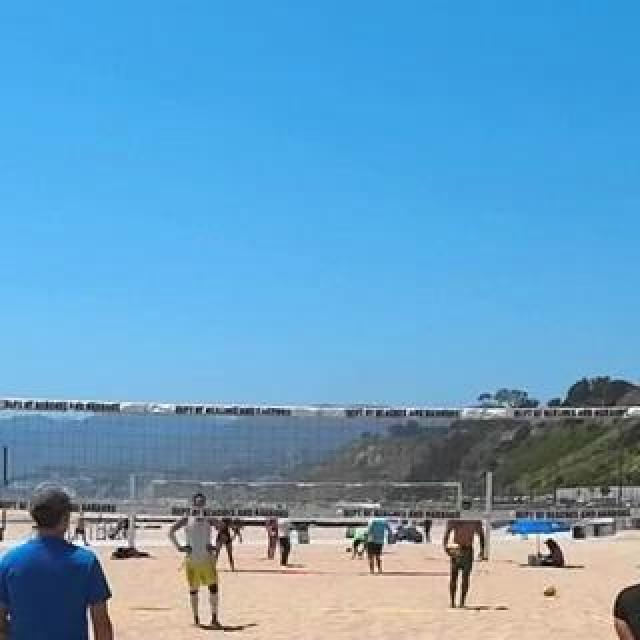volleyball: (445, 541, 461, 557), (544, 584, 556, 598)
